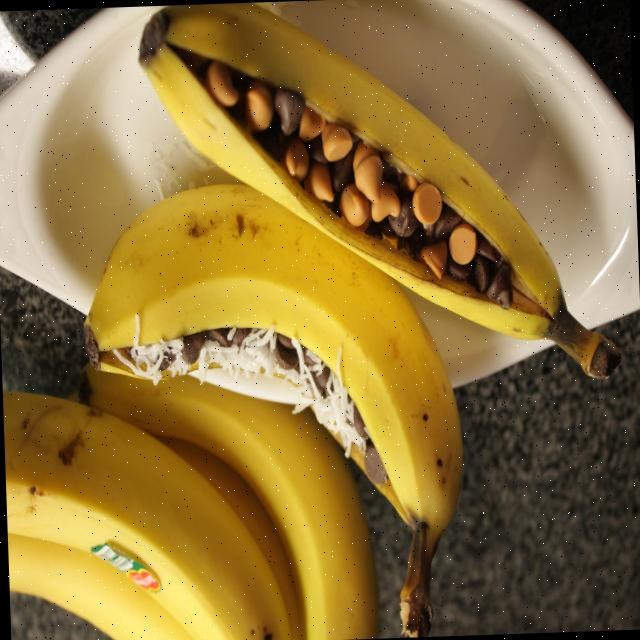Pisang: (135, 0, 623, 397), (76, 174, 470, 640), (2, 351, 380, 640), (7, 525, 198, 640)
